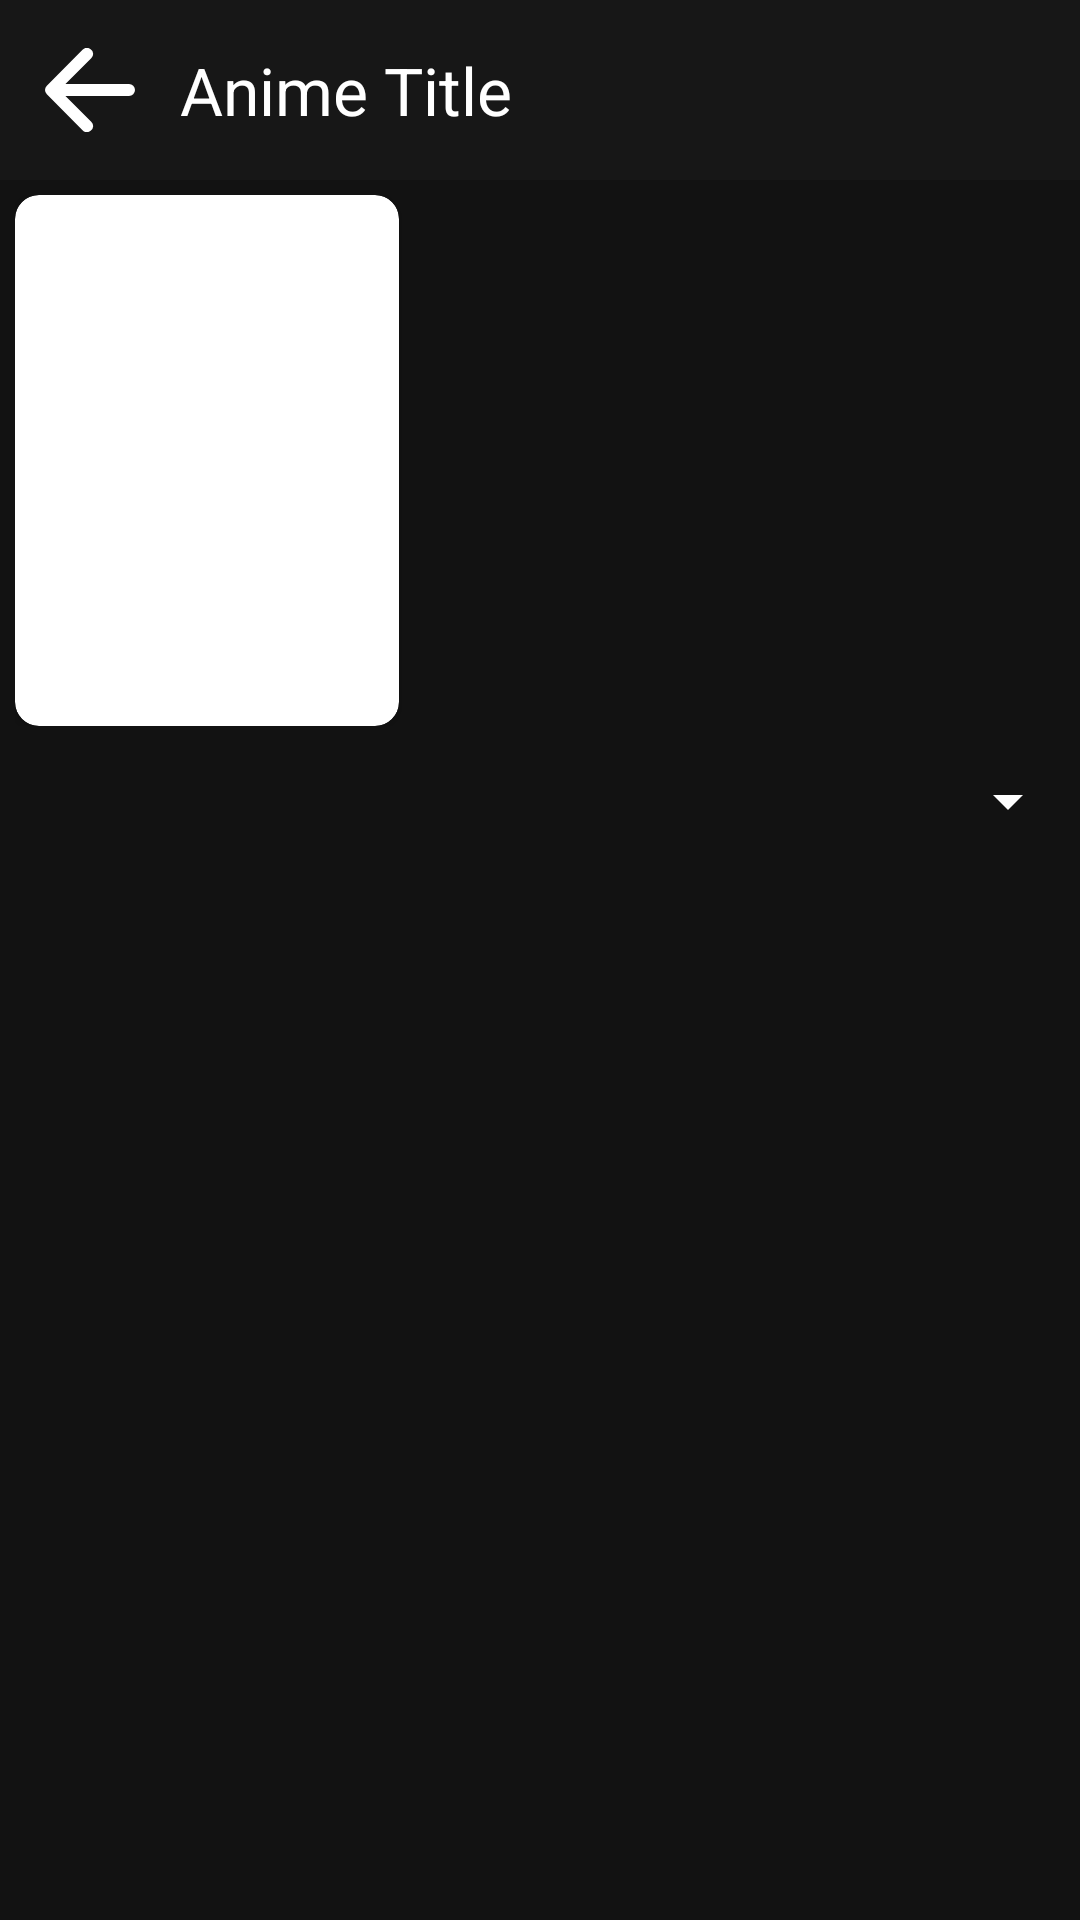

Point at icon controls on the screen. Image size 1080*1920, points as point (x, y).
back arrow: point (90, 90)
